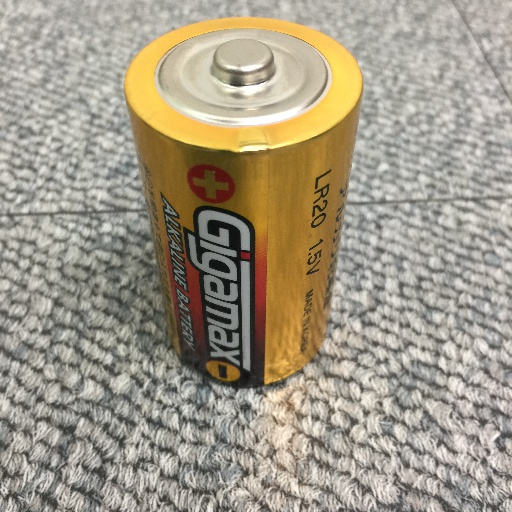Battery_0: (117, 13, 375, 397)
